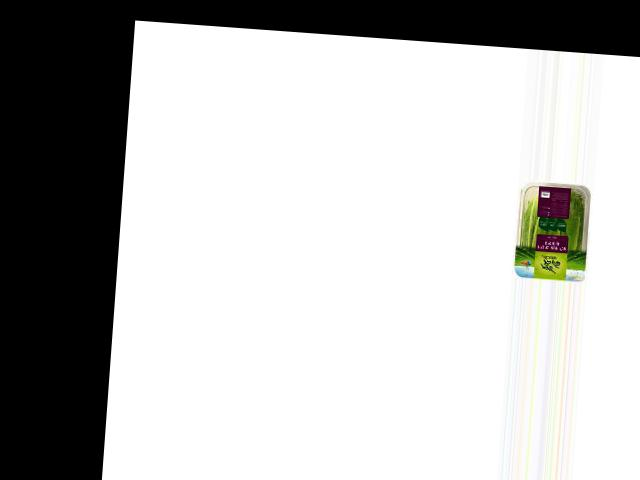lettuce: (512, 180, 591, 275)
